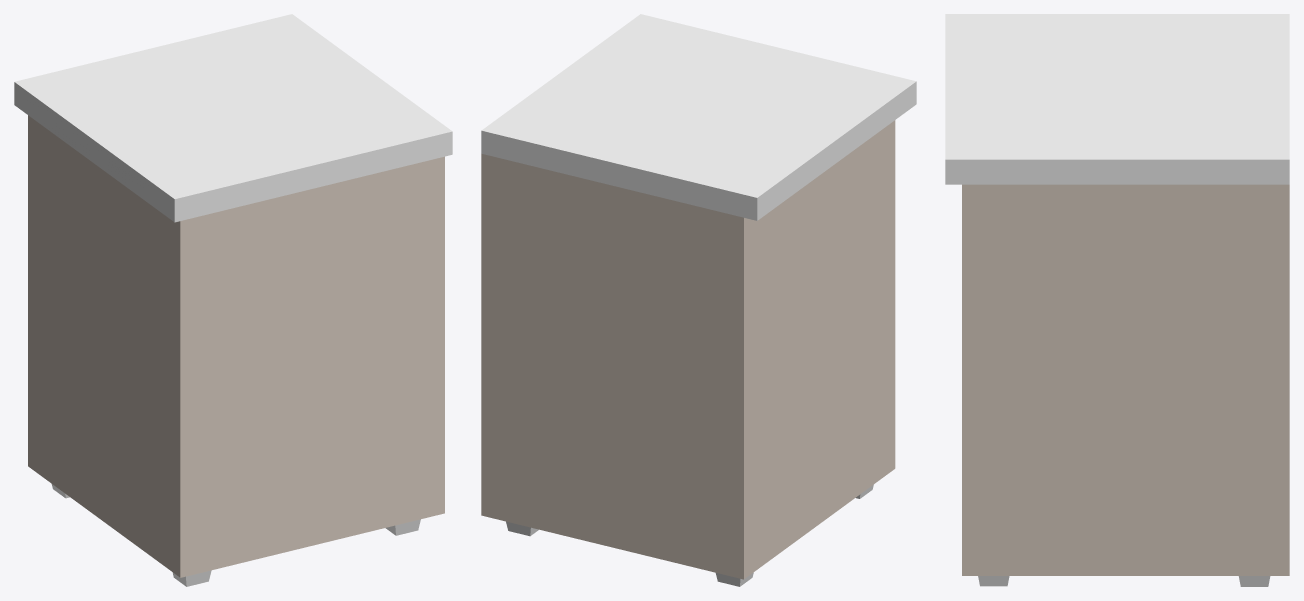
3 views of the same model, side by side, from view 1: azimuth 30°, elevation 25°; view 2: azimuth 150°, elevation 25°; view 3: azimuth 270°, elevation 25° (orthographic). The views are drawn at different scales.
Visible parts, largest first — view 1: polySurface40, polySurface40.001, polySurface44; view 2: polySurface40, polySurface40.001, polySurface44; view 3: polySurface40, polySurface40.001, polySurface44.
Boxes of the visible parts, x1,y1,x2,y2 form: polySurface40: [28, 115, 444, 577]; polySurface40.001: [14, 14, 452, 222]; polySurface44: [51, 484, 420, 586]; polySurface40: [481, 120, 895, 579]; polySurface40.001: [481, 14, 916, 220]; polySurface44: [506, 484, 873, 586]; polySurface40: [962, 184, 1289, 575]; polySurface40.001: [945, 14, 1289, 184]; polySurface44: [978, 576, 1270, 586].
Size of the model in its own units: 69.46 by 97.04 by 69.46.
